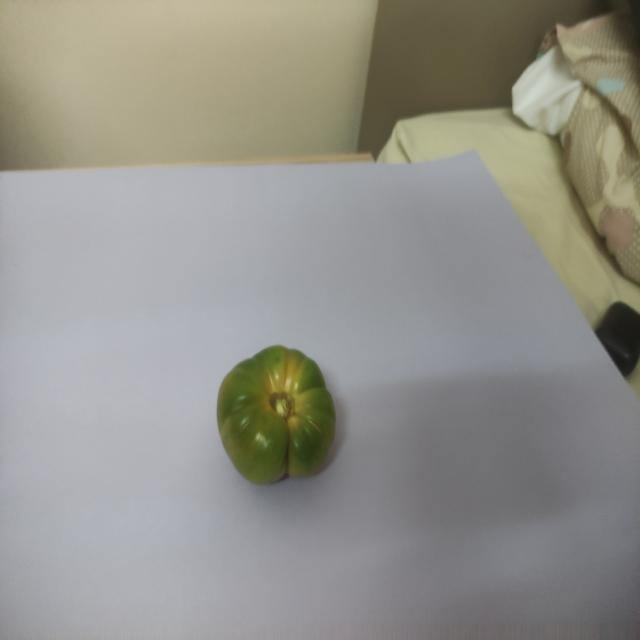yesil: (205, 341, 349, 498)
